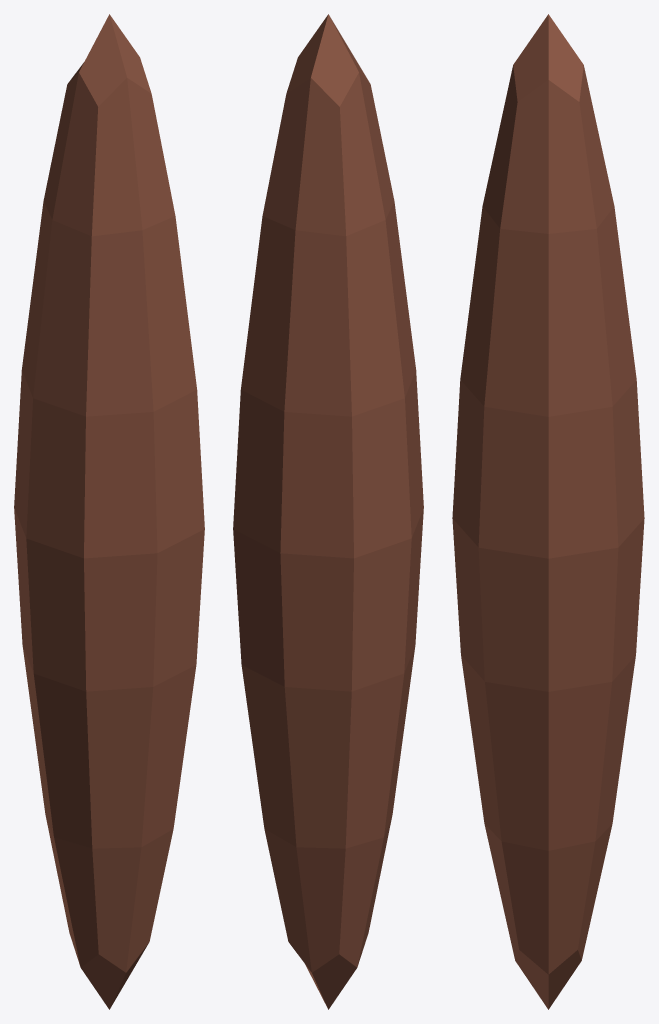
Rendered from tohum1.fbx.
3 views of the same model, side by side, from view 1: azimuth 30°, elevation 25°; view 2: azimuth 150°, elevation 25°; view 3: azimuth 270°, elevation 25° (orthographic).
Visible parts, largest first — view 1: Cube; view 2: Cube; view 3: Cube.
Boxes of the visible parts, x1,y1,x2,y2 form: Cube: (14, 14, 204, 1009); Cube: (233, 14, 423, 1009); Cube: (452, 14, 644, 1009).
Size of the model in its own units: 19.39 by 19.39 by 111.
